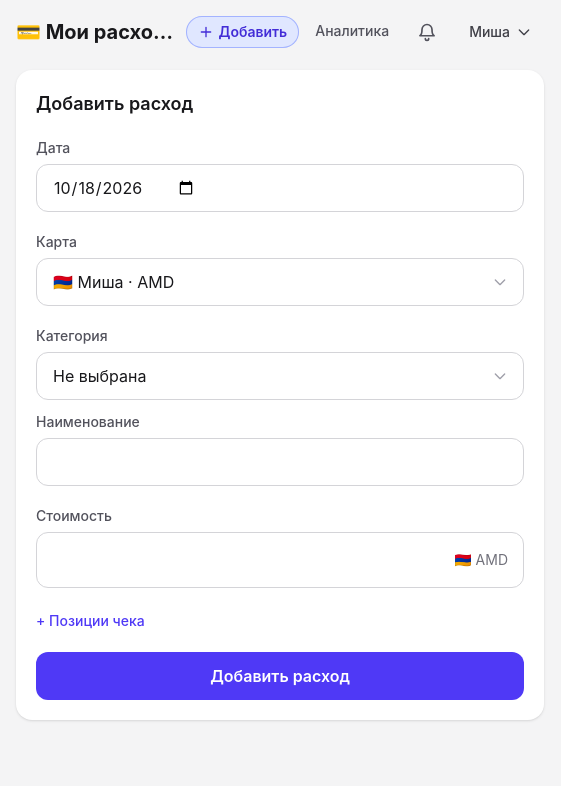
Test: форма без сети › ответ 502: расход в очереди
Check: the button "Добавить расход" is shown, box left=36, top=652, right=524, bottom=700
Step 1. Select "кафе" in the dropdown labelled "Категория" → (280, 376), box left=36, top=352, right=524, bottom=400
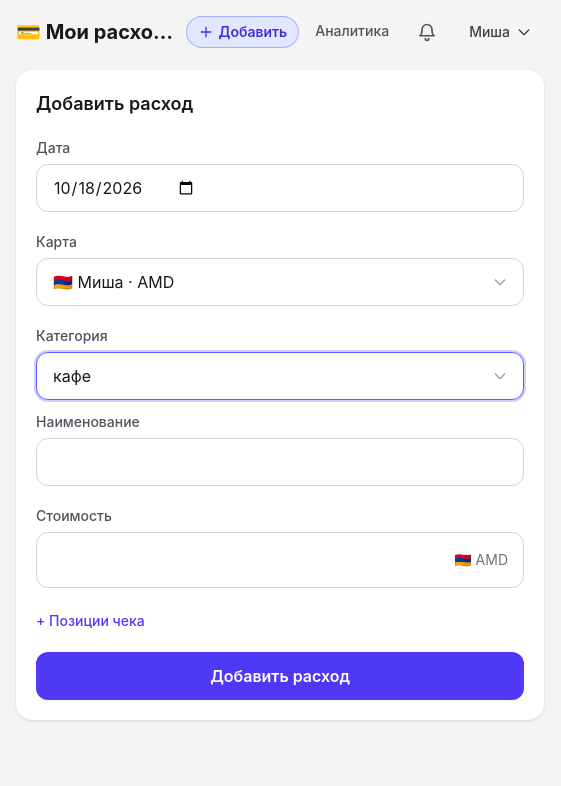
Step 2. Type "Кофе" into the field labelled "Наименование" → (280, 462), box left=36, top=438, right=524, bottom=486
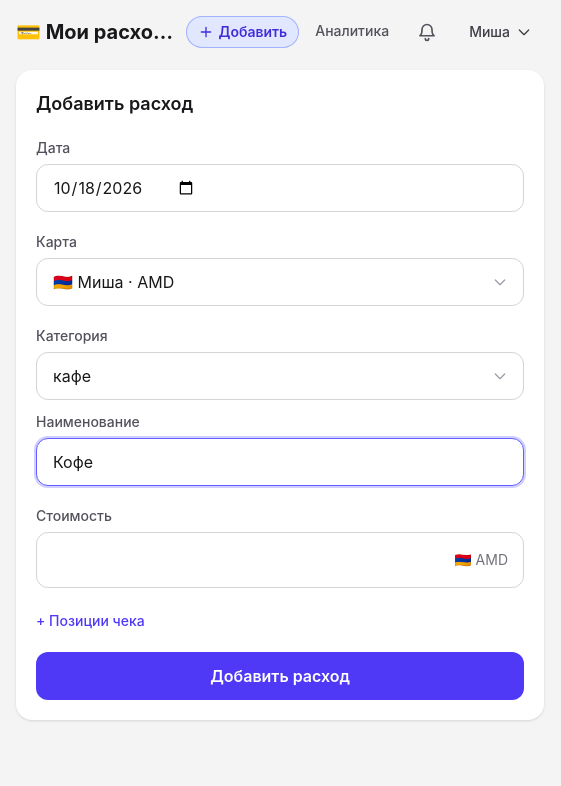
Step 3. Type "1000" into the field labelled "Стоимость" → (280, 560), box left=36, top=532, right=524, bottom=588
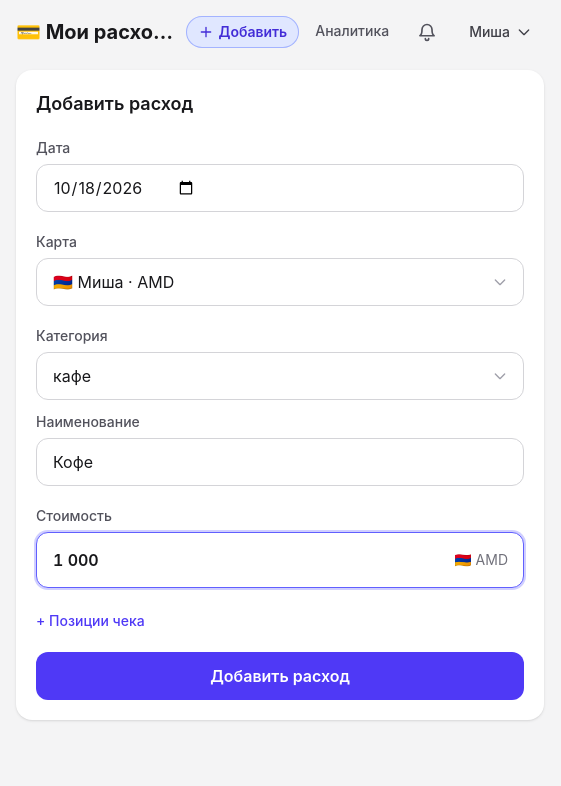
Step 4. Click the button "Добавить расход" → (280, 676), box left=36, top=652, right=524, bottom=700
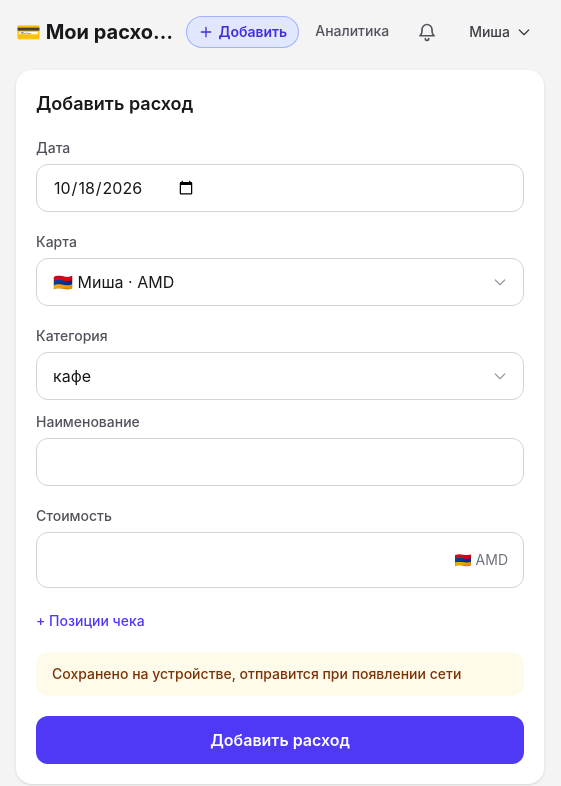
Check: the text "Сохранено на устройстве, отправится при появлении сети" is shown, box left=36, top=652, right=524, bottom=696
